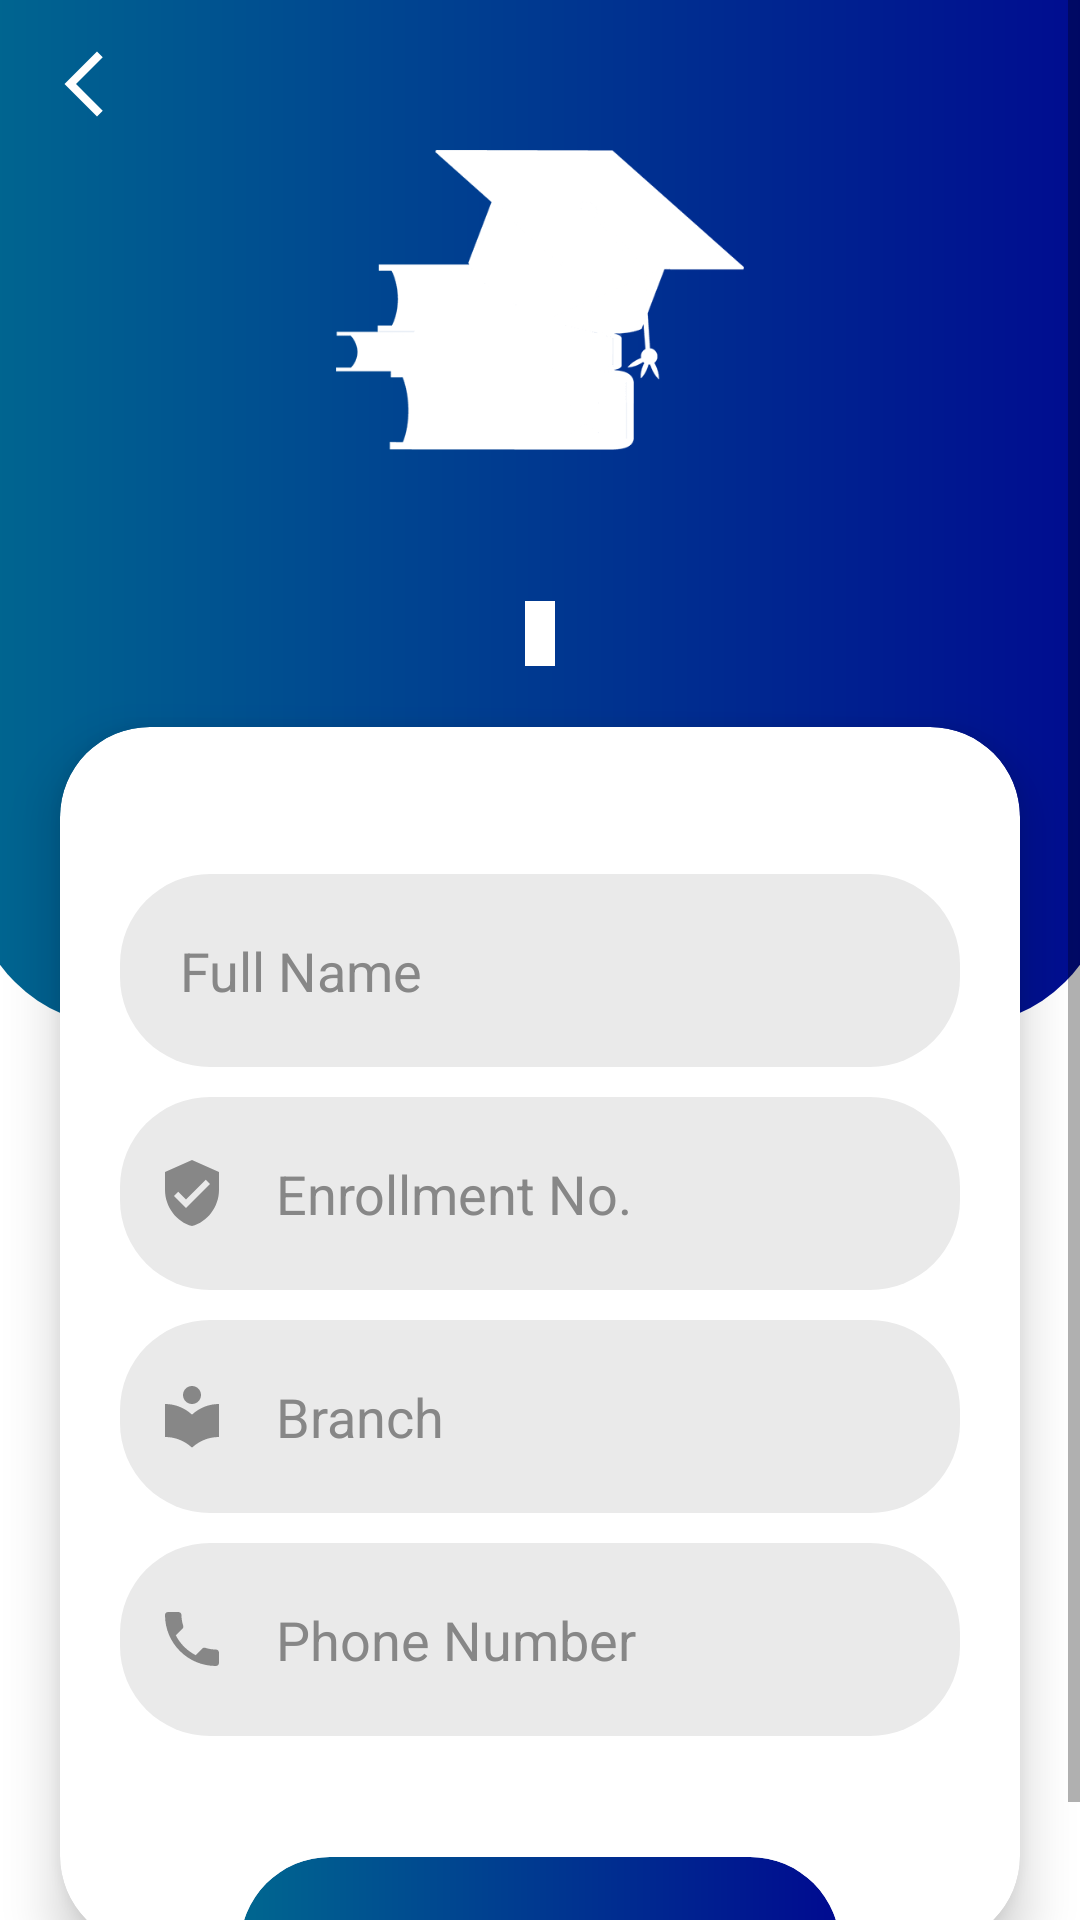

Icon bounding boxes for this 1080px×1920px phone screenshot, format Rect(x1, y1, x2, y2):
arrow back: Rect(64, 51, 103, 117)
